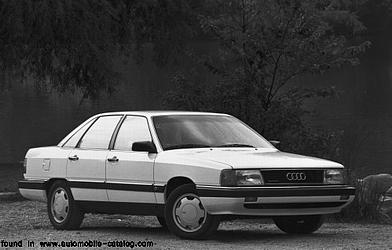Sedan: (17, 107, 356, 239)
